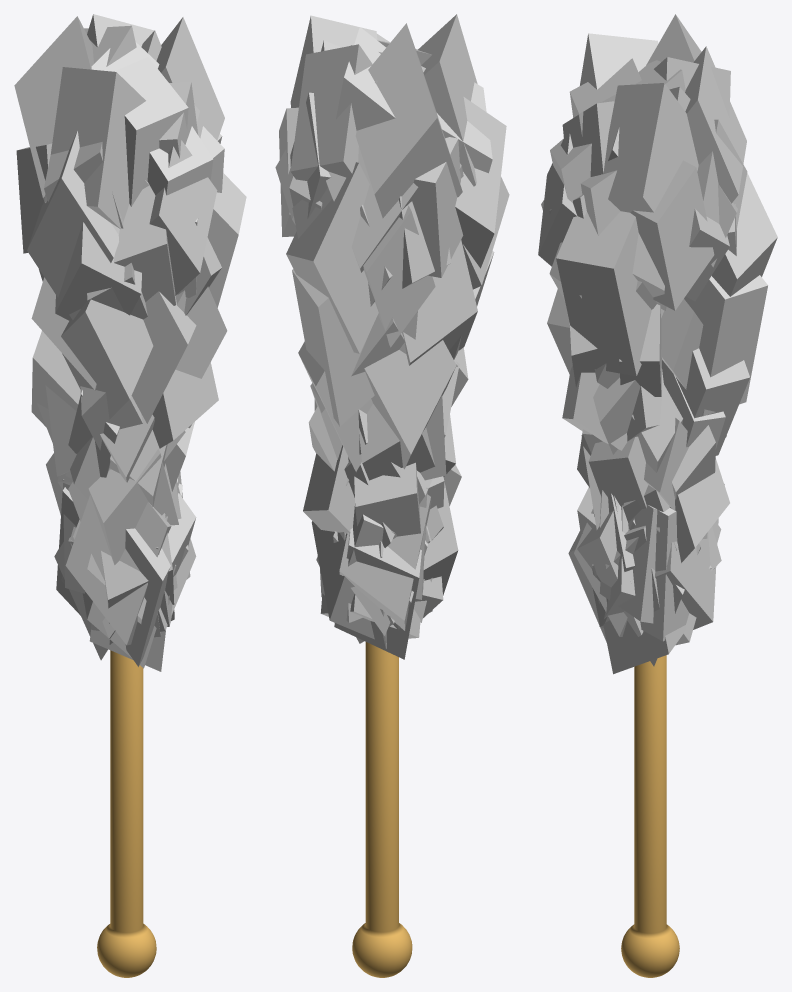
Rendered from CandyClub.fbx.
The picture shows the model from 3 angles, left to right: view 1: azimuth 30°, elevation 25°; view 2: azimuth 150°, elevation 25°; view 3: azimuth 270°, elevation 25°; orthographic projection. The views are drawn at different scales.
Visible parts, largest first — view 1: Icosphere, Sphere; view 2: Icosphere, Sphere; view 3: Icosphere, Sphere.
Part boxes in pixels (x1,y1,x2,y2): Icosphere: (14,14,246,671); Sphere: (97,650,156,977); Icosphere: (275,14,509,659); Sphere: (352,642,412,977); Icosphere: (538,14,777,674); Sphere: (621,655,679,977).
Size of the model in its own units: 799 by 3545 by 816.
